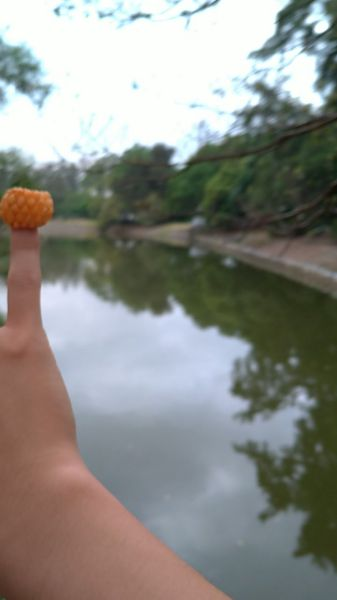eggs: (1, 185, 56, 230)
